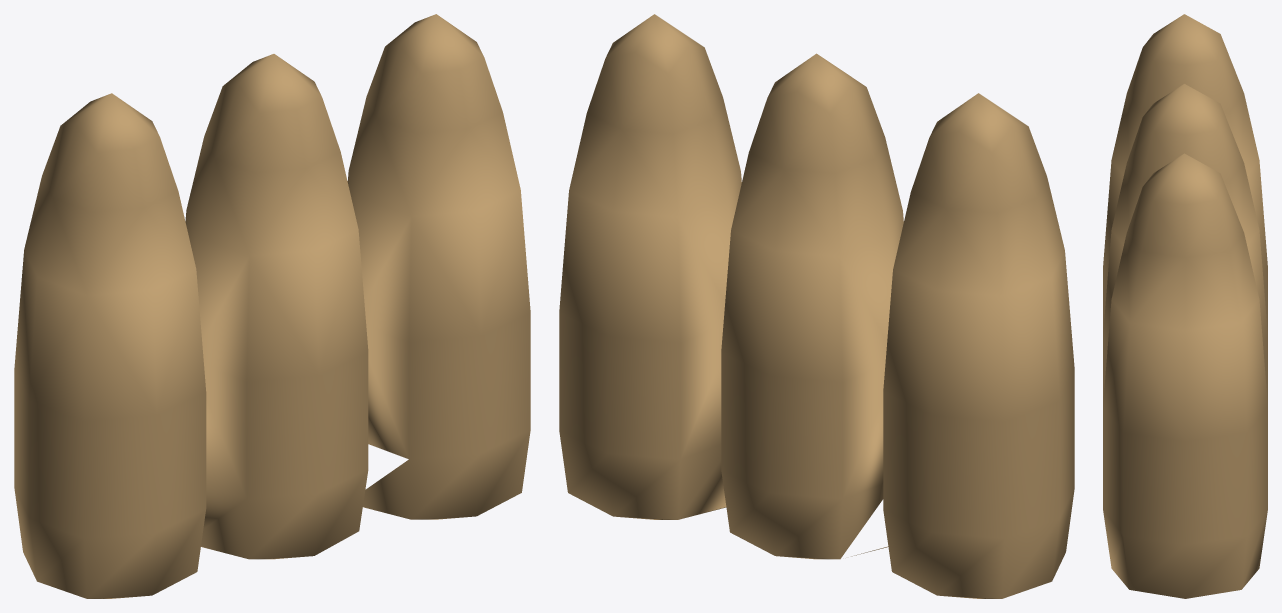
The model's file is pickup_weapon.glb.
3 views of the same model, side by side, from view 1: azimuth 30°, elevation 25°; view 2: azimuth 150°, elevation 25°; view 3: azimuth 270°, elevation 25° (orthographic). The views are drawn at different scales.
Visible parts, largest first — view 1: Pickup; view 2: Pickup; view 3: Pickup.
Part boxes in pixels (x1,y1,x2,y2): Pickup: [14, 14, 530, 598]; Pickup: [559, 14, 1074, 598]; Pickup: [1103, 14, 1267, 598].
Size of the model in its own units: 0.6099 by 0.6059 by 0.2033.
